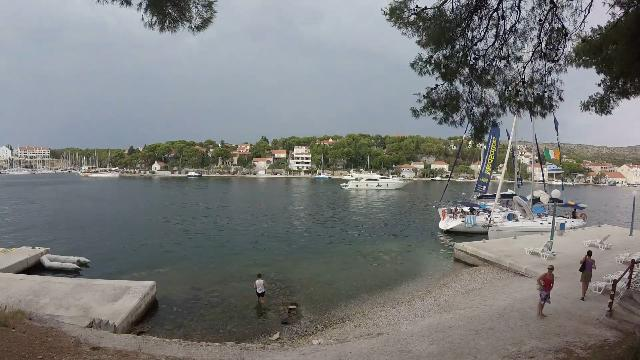ferry: (335, 168, 415, 194)
